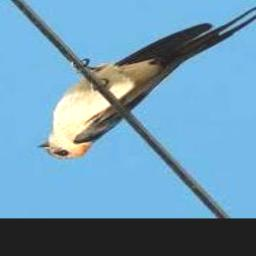Swallow: (37, 1, 256, 159)
